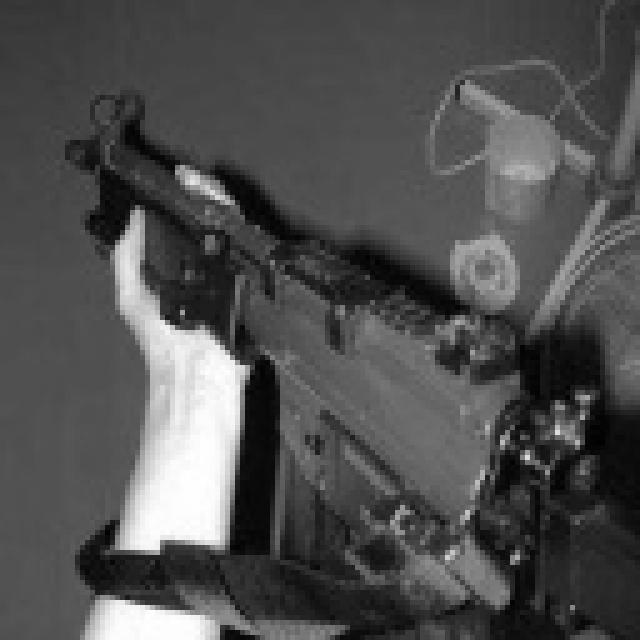Rifle: (30, 80, 640, 640)
